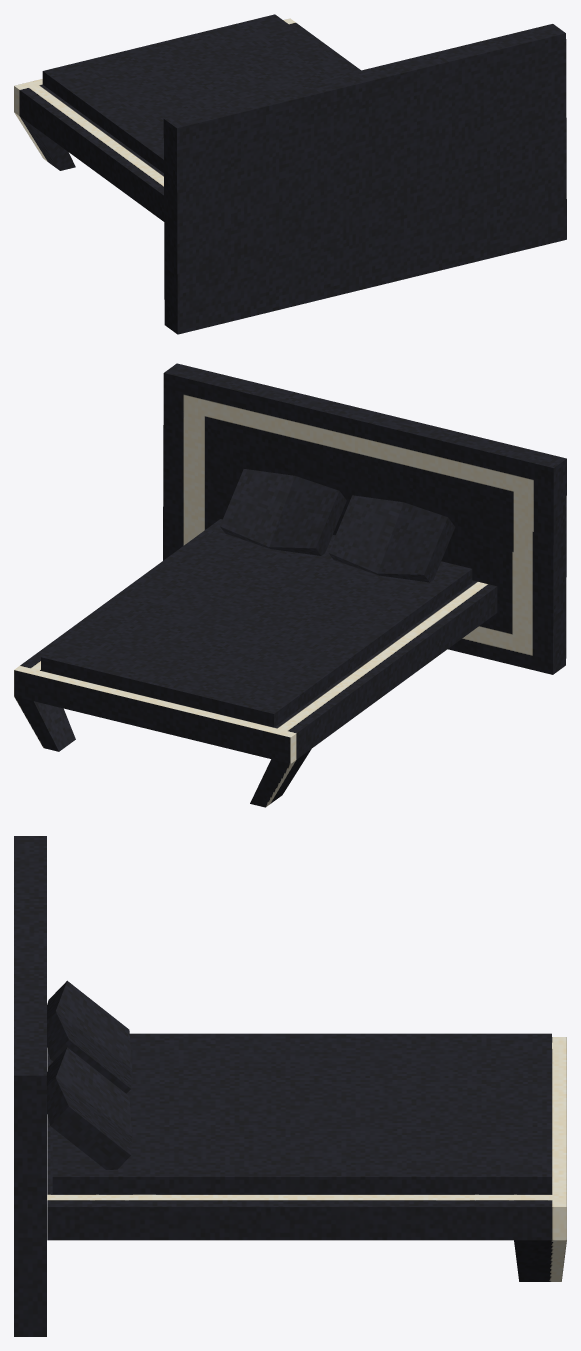
File: Bed.fbx
3 views of the same model, one above another, from view 1: azimuth 30°, elevation 25°; view 2: azimuth 150°, elevation 25°; view 3: azimuth 270°, elevation 25° (orthographic). The views are drawn at different scales.
Parts seen in each view (by area): view 1: Bed; view 2: Bed; view 3: Bed.
Part boxes in pixels (box(x1,y1,x2,y2)): Bed: box(14, 14, 566, 334); Bed: box(14, 363, 566, 807); Bed: box(14, 836, 566, 1336).
Bounding box in the file's own units: 221 × 113 × 215.
Materials: 2 (2 with a texture image).
